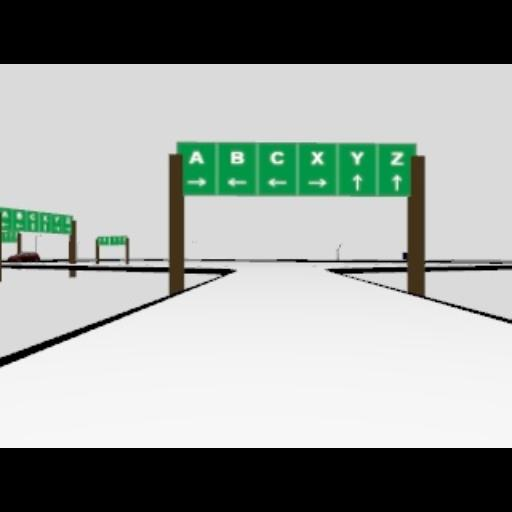A: (187, 150, 203, 164)
B: (229, 150, 243, 164)
C: (269, 151, 285, 165)
Left: (267, 177, 289, 187), (226, 178, 246, 186)
Right: (308, 177, 326, 187), (186, 178, 206, 186)
Straight: (390, 173, 402, 191), (352, 173, 364, 191)
X: (310, 151, 324, 165)
Y: (349, 151, 363, 165)
Z: (389, 151, 403, 165)
